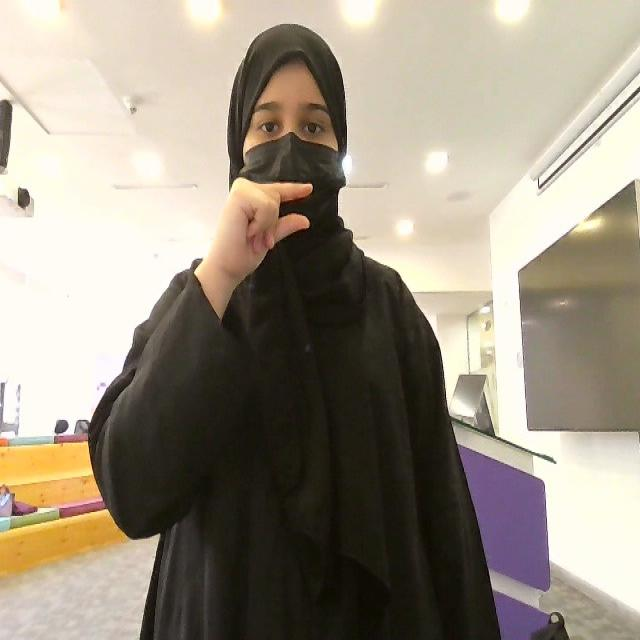fasting: (209, 175, 313, 280)
